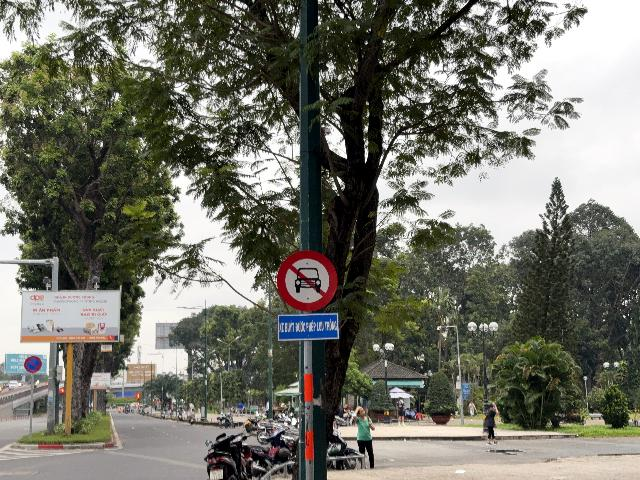cam-o-to: (277, 250, 338, 311)
